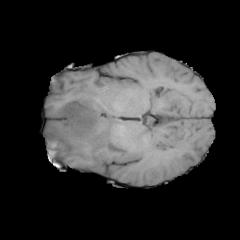glioma: (49, 88, 128, 164)
